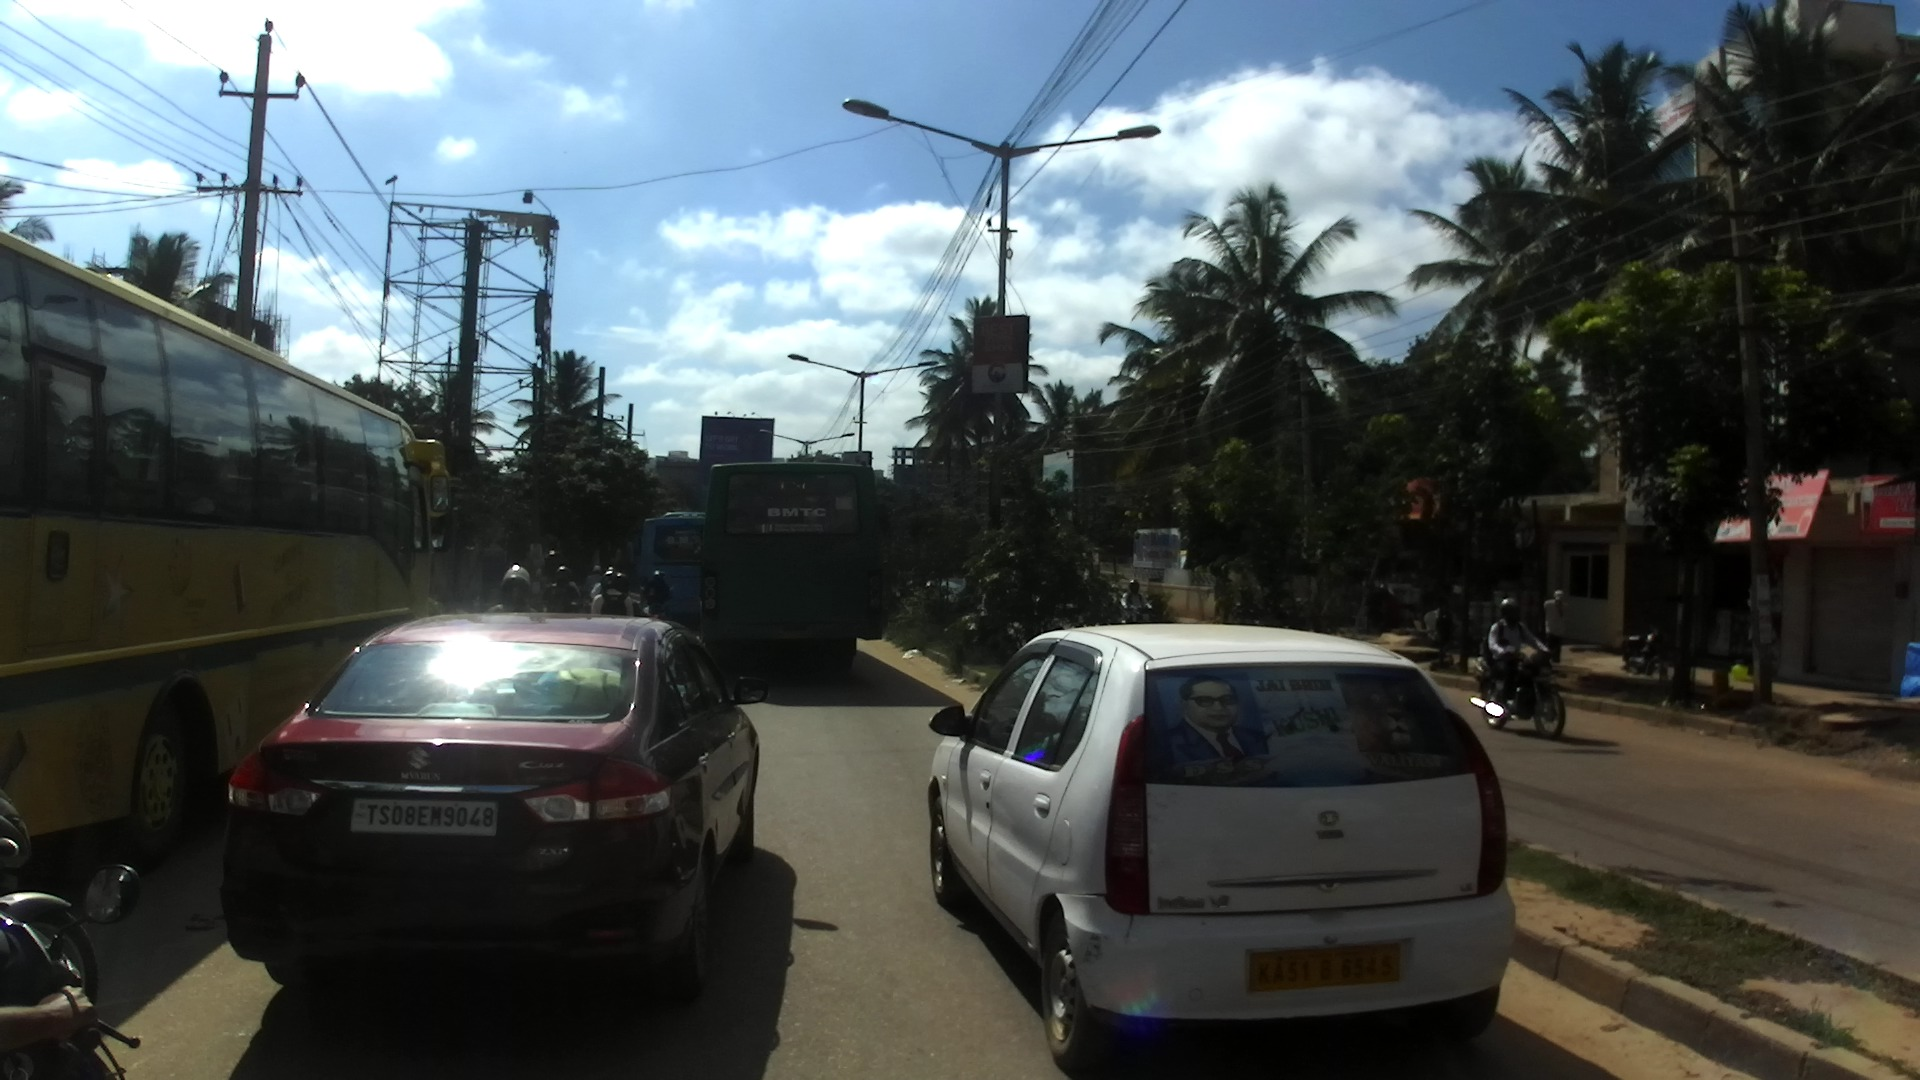bus: (1, 233, 456, 877), (702, 461, 884, 676), (636, 512, 705, 619)
car: (924, 619, 1505, 1061), (221, 610, 775, 1010), (930, 570, 983, 618)
motorcycle: (2, 865, 146, 1080), (0, 787, 104, 1005), (1472, 632, 1563, 735), (1619, 622, 1666, 677), (637, 584, 673, 621), (1129, 606, 1156, 627)
person: (1544, 588, 1571, 665)
rider: (1482, 597, 1546, 699), (1, 987, 95, 1046), (490, 563, 537, 609), (593, 573, 642, 617), (591, 572, 631, 615), (544, 567, 582, 612), (641, 567, 670, 609), (1119, 574, 1146, 617), (537, 547, 562, 589), (584, 563, 600, 592), (606, 564, 615, 572)
